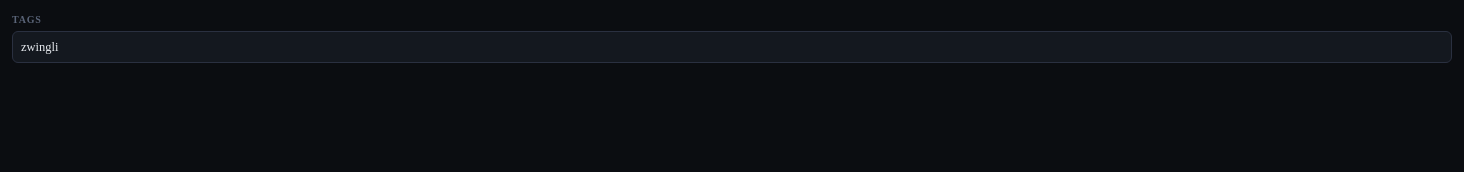
it: timeline tag suggestions › allows custom tags on blur and excludes already selected suggestions
Later steps or results of the test are not shown.
Replace the text in the dropdown with "zwingli, z" at (732, 47), box [12, 31, 1452, 63]
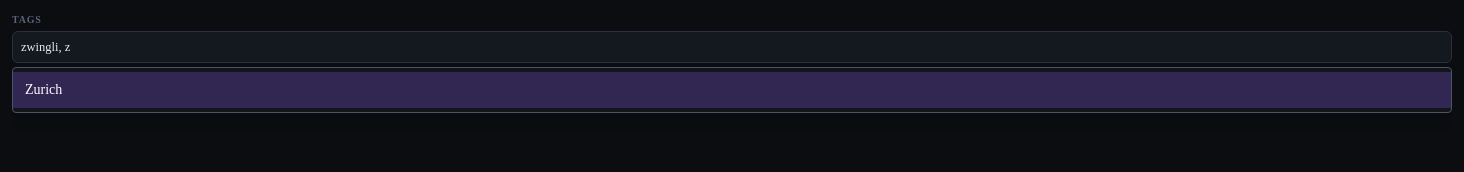
Now the options read "Zurich", in this order, box [13, 72, 1451, 108]
Press Escape in the dropdown, box [12, 31, 1452, 63]
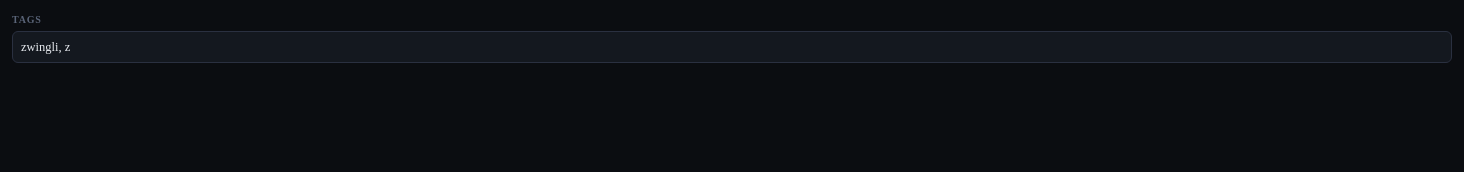
Now the list is gone
